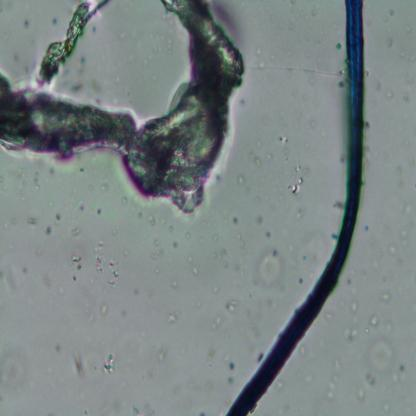Background material: (0, 344, 30, 400), (257, 248, 283, 289), (368, 338, 395, 374), (93, 232, 110, 280), (70, 54, 88, 96), (7, 166, 29, 198), (327, 359, 343, 399), (64, 247, 81, 283), (70, 346, 87, 380), (146, 236, 166, 264), (0, 267, 18, 295), (247, 307, 262, 338), (211, 245, 227, 273), (109, 258, 122, 288), (52, 332, 64, 360), (341, 326, 360, 342), (334, 69, 348, 90), (247, 146, 260, 168), (291, 159, 308, 175), (290, 177, 305, 195), (98, 299, 114, 315), (398, 200, 414, 216), (158, 345, 173, 362), (207, 344, 218, 366), (278, 131, 290, 151), (42, 270, 54, 289), (73, 200, 88, 215), (23, 213, 40, 226), (302, 367, 314, 385), (399, 227, 409, 248), (68, 224, 83, 238), (104, 354, 115, 373), (380, 289, 391, 308), (368, 310, 379, 328), (349, 298, 360, 316), (399, 89, 412, 103), (126, 407, 146, 416), (168, 310, 180, 324), (364, 372, 376, 386), (144, 213, 156, 227), (227, 300, 238, 314), (204, 378, 214, 393), (43, 223, 53, 238), (396, 366, 406, 381), (237, 96, 249, 108), (357, 386, 367, 400), (21, 16, 31, 30), (384, 89, 396, 100), (386, 242, 396, 255), (130, 286, 143, 296), (33, 174, 40, 192), (147, 288, 156, 302), (214, 317, 226, 327), (396, 178, 406, 190), (49, 16, 59, 28), (308, 8, 318, 20), (118, 194, 128, 206), (232, 262, 242, 274), (170, 279, 180, 290), (169, 239, 180, 249), (294, 209, 304, 220), (385, 36, 394, 48), (404, 71, 412, 84), (97, 182, 107, 192), (34, 246, 44, 256), (256, 60, 266, 70), (231, 214, 239, 226), (228, 360, 236, 372), (395, 164, 404, 174), (9, 217, 18, 227), (80, 407, 90, 416), (211, 232, 219, 243), (94, 205, 102, 216), (264, 229, 272, 240), (404, 24, 412, 34), (335, 42, 343, 52), (256, 214, 264, 224), (136, 208, 144, 218), (191, 268, 199, 278), (20, 263, 27, 274), (112, 224, 118, 236), (222, 354, 231, 362), (375, 81, 382, 91), (284, 155, 290, 166), (183, 230, 191, 238), (186, 254, 192, 264), (228, 376, 235, 384), (239, 177, 246, 185), (264, 153, 272, 160), (388, 9, 395, 17), (56, 213, 61, 224), (264, 193, 270, 202), (151, 344, 156, 354), (212, 286, 218, 294), (154, 266, 160, 274), (257, 46, 262, 55), (397, 256, 402, 264), (256, 197, 262, 203), (244, 187, 250, 193), (365, 327, 369, 334), (170, 226, 174, 233), (271, 205, 276, 210)
Cellulose filter fibre: (0, 1, 244, 213)
Cotton: (226, 1, 366, 415)
